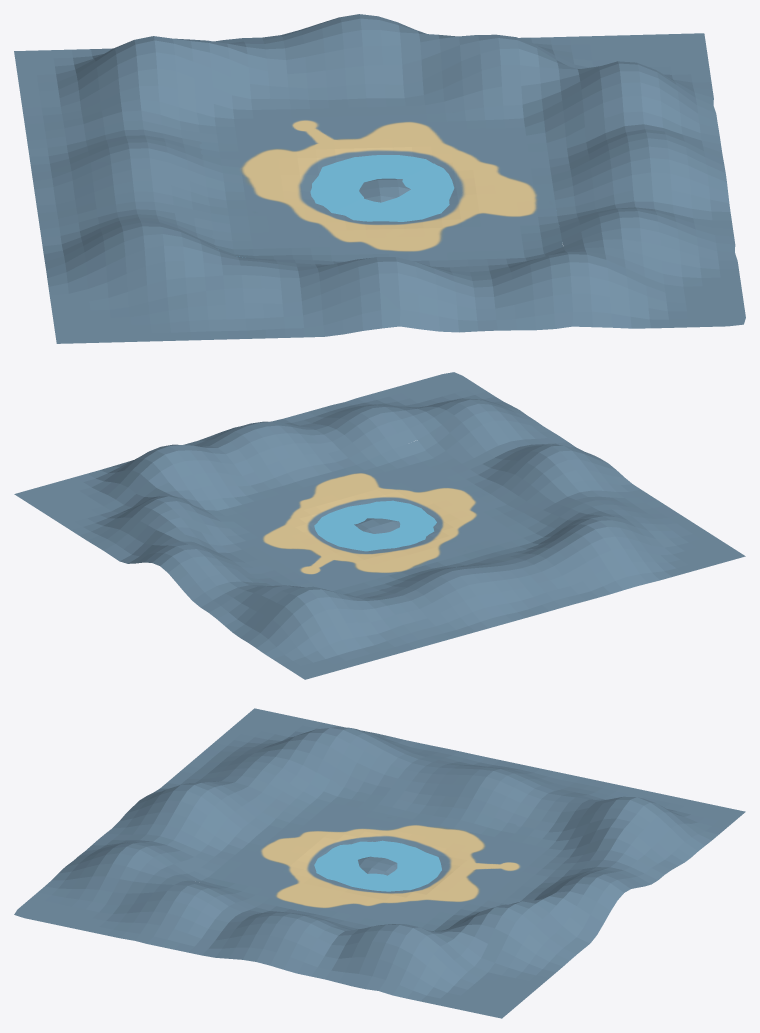
Rendered from galleryTerrain.glb.
3 views of the same model, one above another, from view 1: azimuth 30°, elevation 25°; view 2: azimuth 150°, elevation 25°; view 3: azimuth 270°, elevation 25° (orthographic). The views are drawn at different scales.
Parts seen in each view (by area): view 1: hills, ground, water.002; view 2: hills, ground, water.002; view 3: hills, ground, water.002.
Boxes of the visible parts, box(x1,y1,x2,y2) form: hills: box(14, 14, 745, 343); ground: box(196, 99, 562, 261); water.002: box(239, 155, 454, 257); hills: box(14, 372, 745, 679); ground: box(197, 440, 562, 596); water.002: box(314, 500, 436, 551); hills: box(14, 708, 745, 1018); ground: box(195, 772, 562, 931); water.002: box(314, 840, 441, 891).
Bounding box in the file's own units: 273 × 17.81 × 272.
3 materials, 1 textured.
